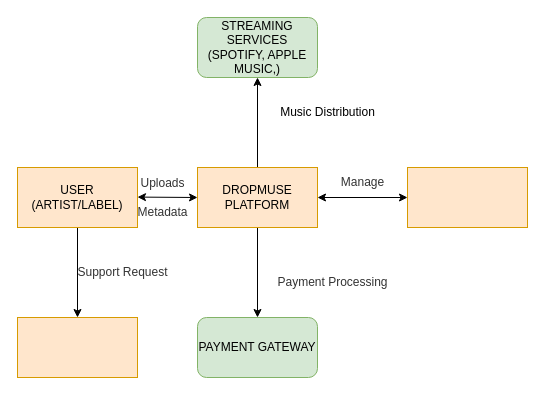
Image size: 545x395. Some labels were removed from this diagram. Here are the shapes that lost their labels. From the top down, the centre of each, then its label:
At (x=467, y=197): "ADMIN/MODERATOR".
At (x=77, y=347): "SUPPORT SYSTEM".
